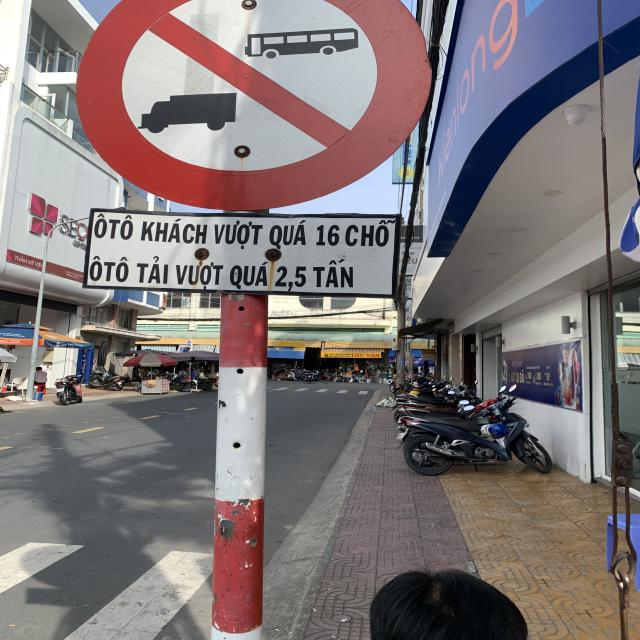Cam_XeTai_XeKhach: (74, 0, 433, 209)
